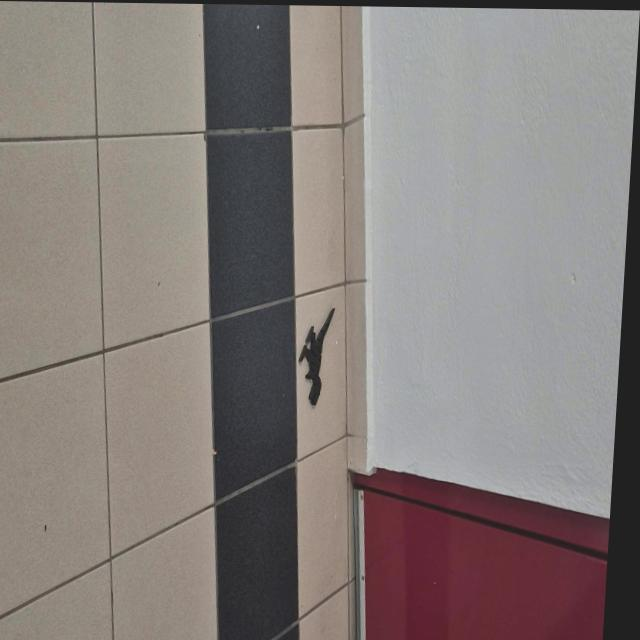dino: (296, 306, 336, 406)
